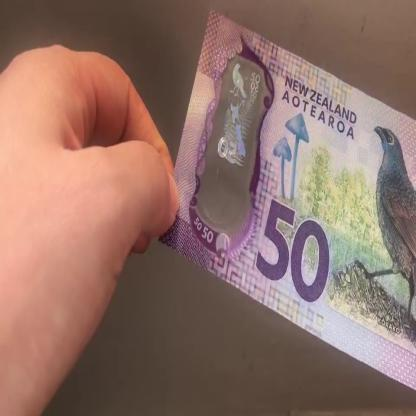50B: (205, 60, 262, 224)
